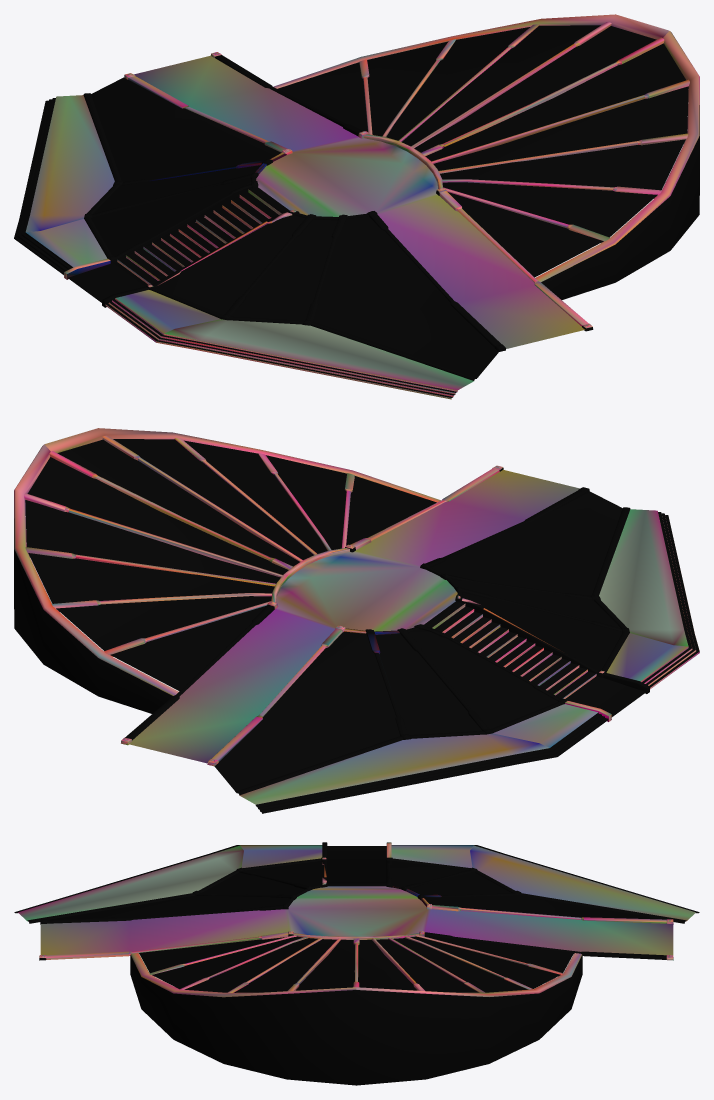
Rendered from CS_Statue_Floor_02.gltf.
3 views of the same model, one above another, from view 1: azimuth 30°, elevation 25°; view 2: azimuth 150°, elevation 25°; view 3: azimuth 270°, elevation 25° (orthographic). The views are drawn at different scales.
Visible parts, largest first — view 1: CS_Statue_Floor_02; view 2: CS_Statue_Floor_02; view 3: CS_Statue_Floor_02.
Part boxes in pixels (left/top/right/bottom): CS_Statue_Floor_02: left=14, top=14, right=699, bottom=399; CS_Statue_Floor_02: left=14, top=428, right=699, bottom=813; CS_Statue_Floor_02: left=14, top=842, right=699, bottom=1085.
Bounding box in the file's own units: 232 × 45.21 × 278.
